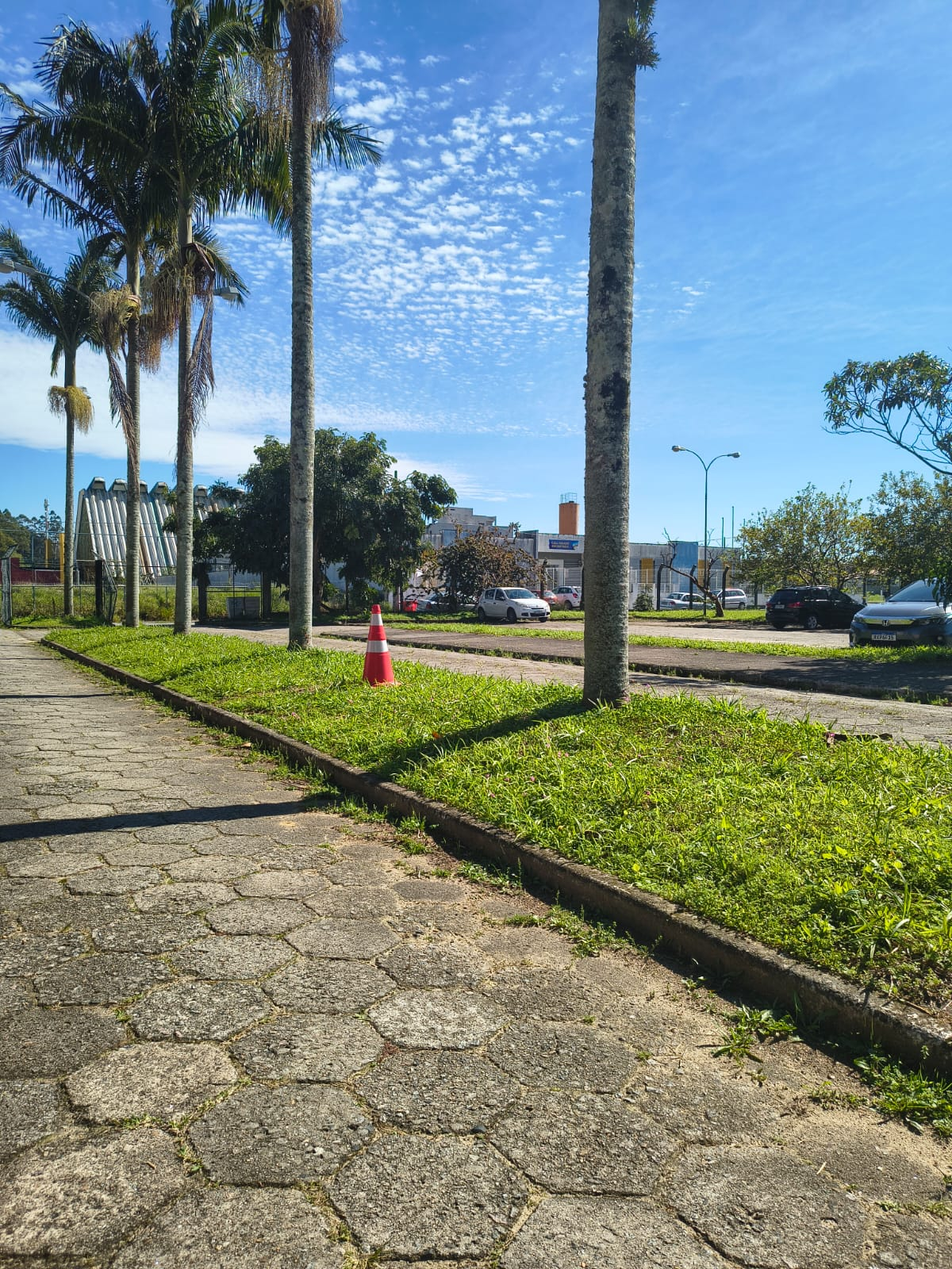cone: (354, 601, 400, 694)
